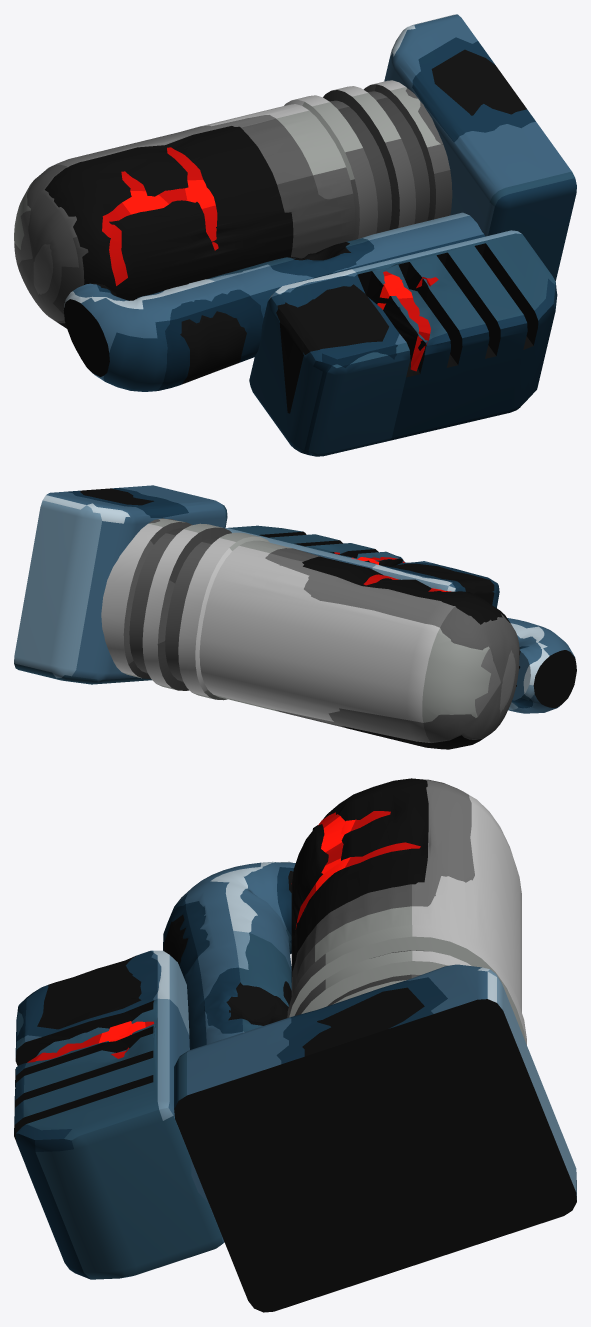
File: deli_cannon_dmg_breech.glb
3 renders of one model, top to bottom at view 1: azimuth 30°, elevation 25°; view 2: azimuth 150°, elevation 25°; view 3: azimuth 270°, elevation 25°, orthographic. The views are drawn at different scales.
Parts seen in each view (by area): view 1: breech.001, fin_block.001, handle.001, rear_block.001, cracks.001; view 2: breech.001, rear_block.001, fin_block.001, handle.001, cracks.001; view 3: rear_block.001, fin_block.001, breech.001, handle.001, cracks.001.
Boxes of the visible parts, bbox=[...] form: breech.001: bbox=[14, 80, 452, 328]; fin_block.001: bbox=[249, 230, 557, 456]; handle.001: bbox=[63, 212, 485, 391]; rear_block.001: bbox=[384, 14, 576, 281]; cracks.001: bbox=[102, 147, 438, 371]; breech.001: bbox=[101, 518, 519, 749]; rear_block.001: bbox=[14, 485, 227, 684]; fin_block.001: bbox=[225, 525, 499, 608]; handle.001: bbox=[507, 618, 576, 713]; cracks.001: bbox=[334, 552, 450, 591]; rear_block.001: bbox=[174, 964, 576, 1312]; fin_block.001: bbox=[14, 950, 224, 1279]; breech.001: bbox=[287, 778, 526, 1044]; handle.001: bbox=[163, 861, 295, 1203]; cracks.001: bbox=[27, 811, 420, 1062].
Bounding box in the file's own units: 24 × 12.88 × 19.51.
